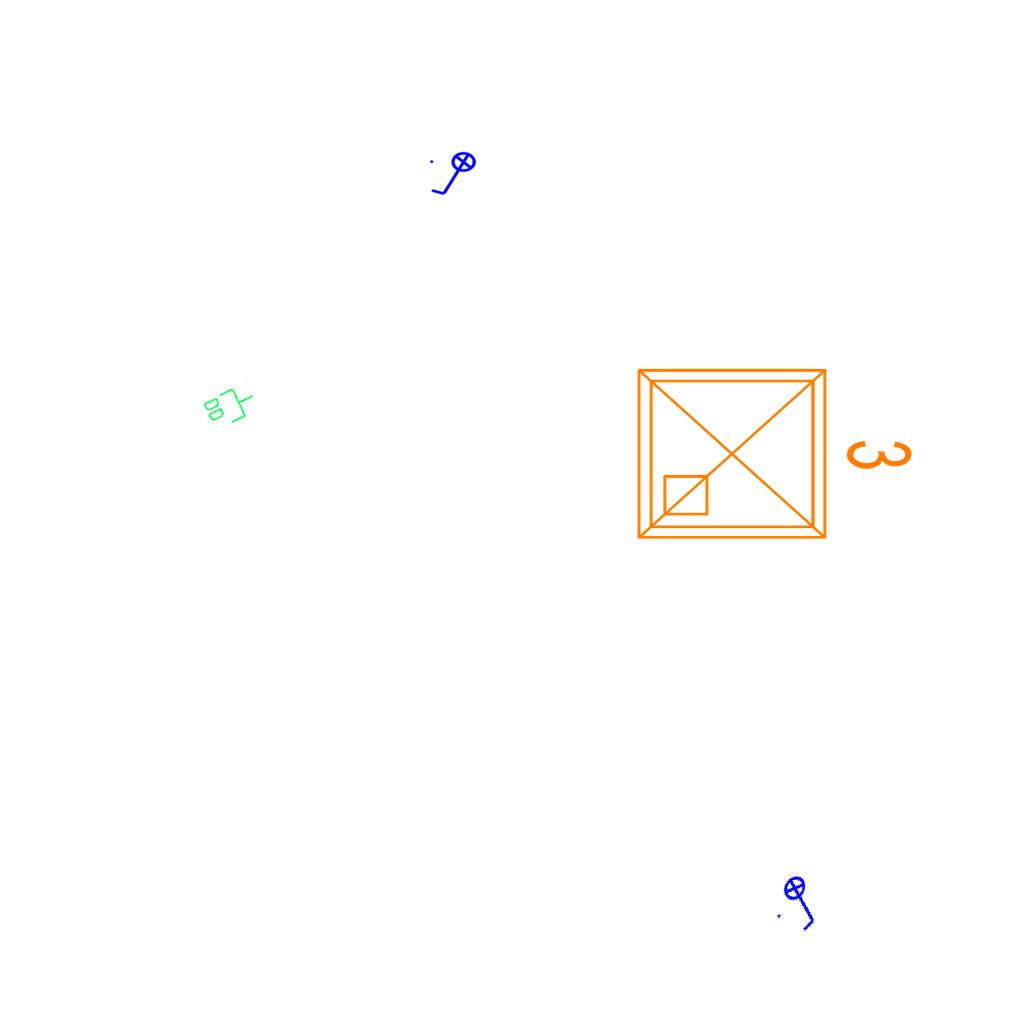Ausschalter_beleuchtet: (767, 865, 837, 939), (427, 151, 483, 199)
Datenanschluss_zweifach: (200, 379, 261, 433)
Einbaudownlights_LED_Konferenzraeume: (623, 346, 923, 554)
